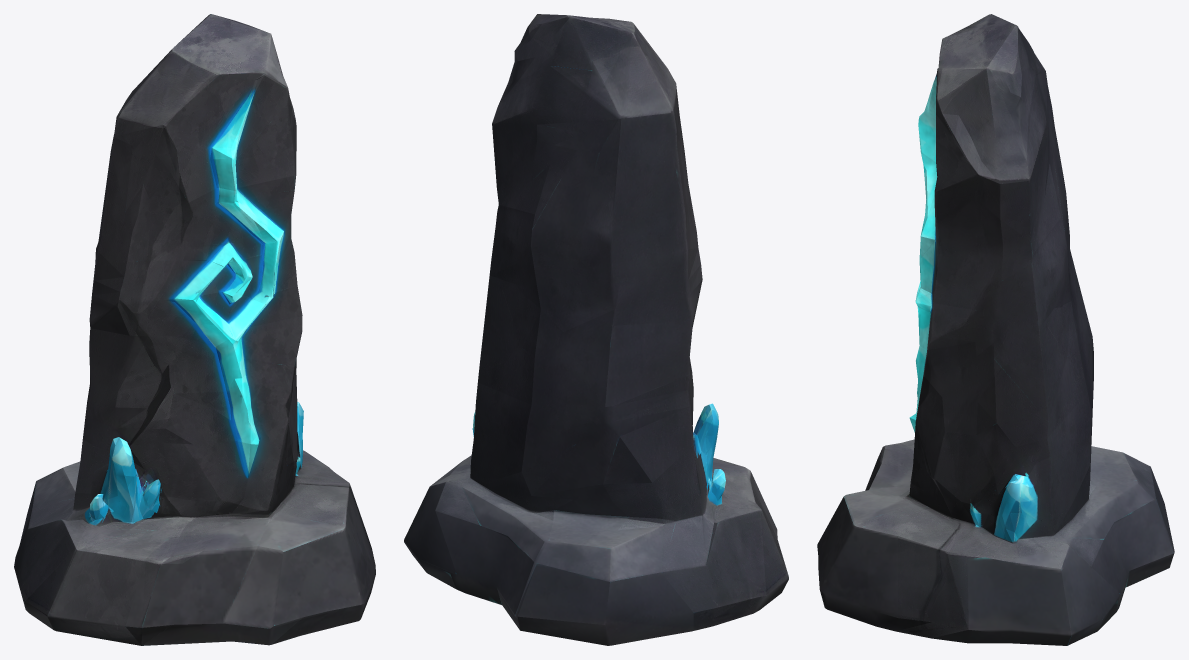
File: frozen-rift-seal.glb
The picture shows the model from 3 angles, left to right: view 1: azimuth 30°, elevation 25°; view 2: azimuth 150°, elevation 25°; view 3: azimuth 270°, elevation 25°; orthographic projection.
Visible parts, largest first — view 1: output_unwrapped; view 2: output_unwrapped; view 3: output_unwrapped.
Boxes of the visible parts, box(x1,y1,x2,y2) form: output_unwrapped: box(14, 14, 375, 645); output_unwrapped: box(404, 14, 788, 645); output_unwrapped: box(817, 14, 1174, 645).
Size of the model in its own units: 1.19 by 1.91 by 1.11.
1 material, 1 textured.
